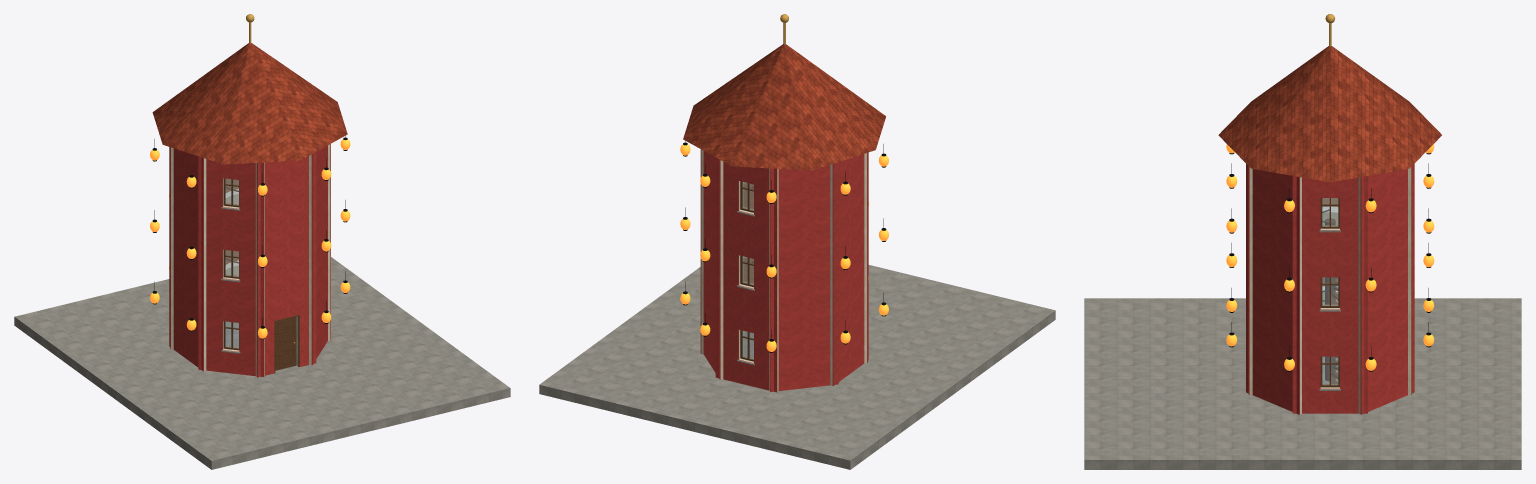
File: b_lantern_festival_tower.gltf
The picture shows the model from 3 angles, left to right: view 1: azimuth 30°, elevation 25°; view 2: azimuth 150°, elevation 25°; view 3: azimuth 270°, elevation 25°; orthographic projection. The views are drawn at different scales.
Visible parts, largest first — view 1: S_lantern_festival_tower, D_lantern_festival_tower_F1_5_0_Door0; view 2: S_lantern_festival_tower; view 3: S_lantern_festival_tower.
Boxes of the visible parts, x1,y1,x2,y2 form: S_lantern_festival_tower: [14, 14, 510, 469]; D_lantern_festival_tower_F1_5_0_Door0: [275, 317, 296, 370]; S_lantern_festival_tower: [539, 14, 1055, 469]; S_lantern_festival_tower: [1084, 14, 1521, 469].
Size of the model in its own units: 14 by 15.13 by 16.
Materials: 14 (9 with a texture image).
